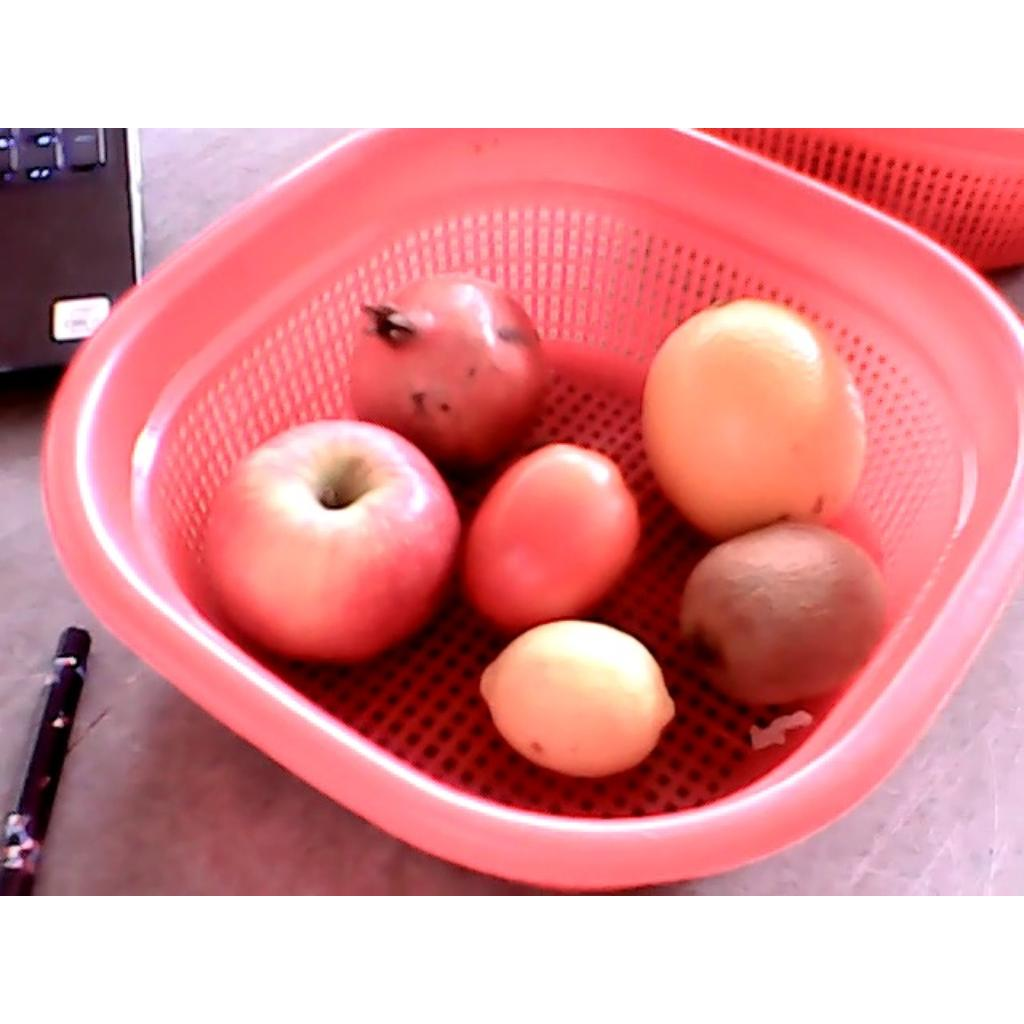apple: (206, 414, 460, 663)
kiwi: (681, 520, 884, 704)
lemon: (478, 621, 676, 778)
orange: (639, 298, 868, 539)
pomegranate: (350, 273, 545, 470)
tomato: (463, 444, 641, 630)
